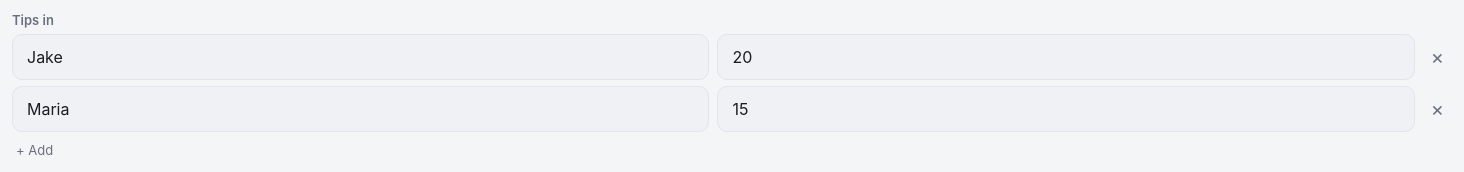
Scenario: NameAmountList › removes a row when its remove button is clicked
The image size is (1464, 172).
Click the button named "Remove Tips in entry": (1437,57) top-left (1423, 43), bottom-right (1452, 71)
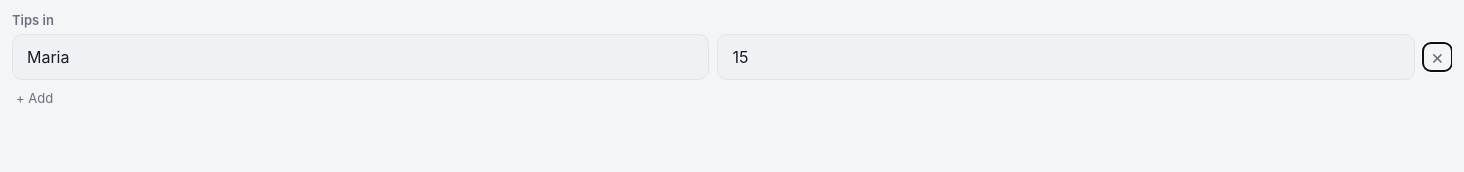
Expected: the field showing "Jake" is not shown
Now the field showing "Maria" is shown, box top-left (12, 34), bottom-right (709, 80)
